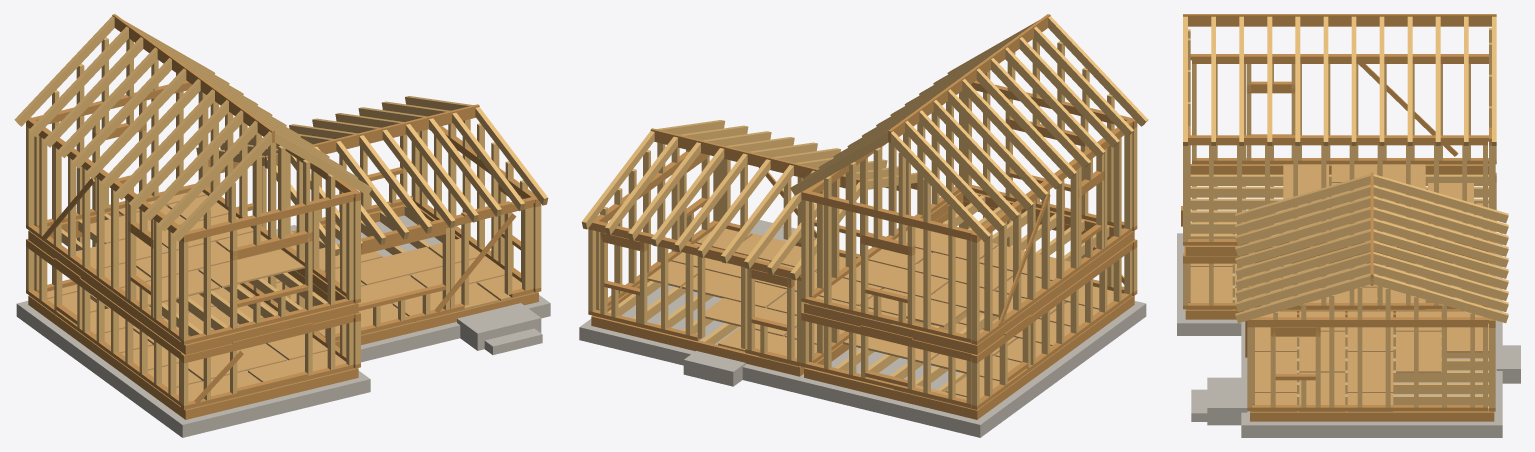
Rendered from base-06-framing.glb.
The picture shows the model from 3 angles, left to right: view 1: azimuth 30°, elevation 25°; view 2: azimuth 150°, elevation 25°; view 3: azimuth 270°, elevation 25°; orthographic projection.
Parts seen in each view (by area): view 1: base_house_6_framing; view 2: base_house_6_framing; view 3: base_house_6_framing.
Part boxes in pixels (<box>): base_house_6_framing: <box>14,14,550,437</box>; base_house_6_framing: <box>579,14,1148,437</box>; base_house_6_framing: <box>1177,14,1520,437</box>.
Size of the model in its own units: 11.45 by 7.58 by 8.55.
